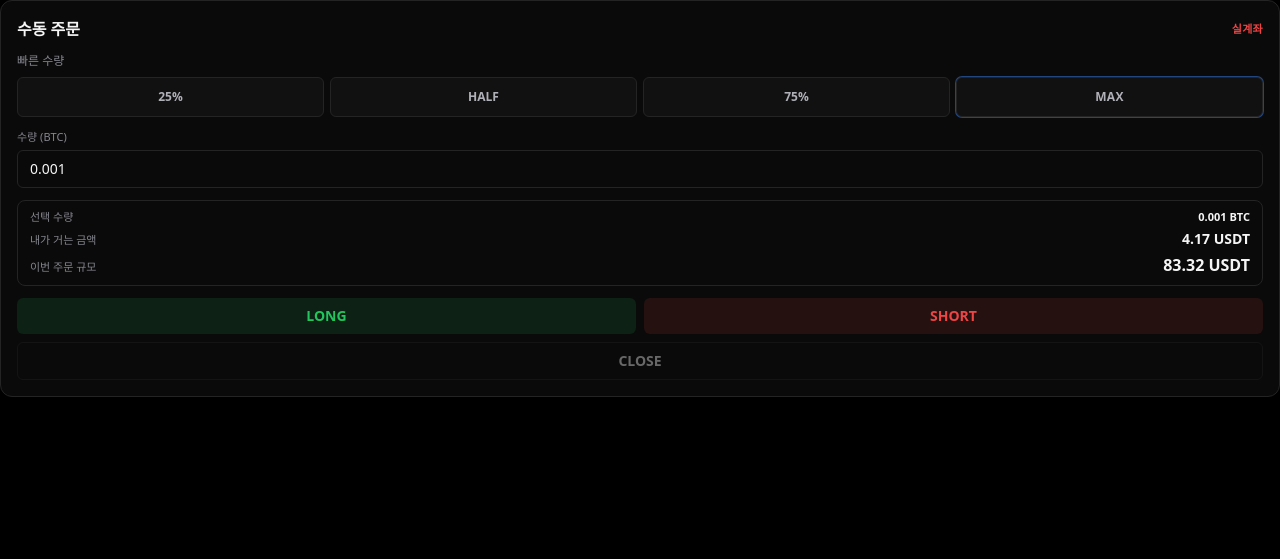
Test: the leverage the confirmation states › says the band's leverage when the band caps the setting (GTC: 20x set, 10x allowed)
The image size is (1280, 559).
Click the button with test id "live-preset-MAX" at (1110, 97), box left=956, top=77, right=1263, bottom=117
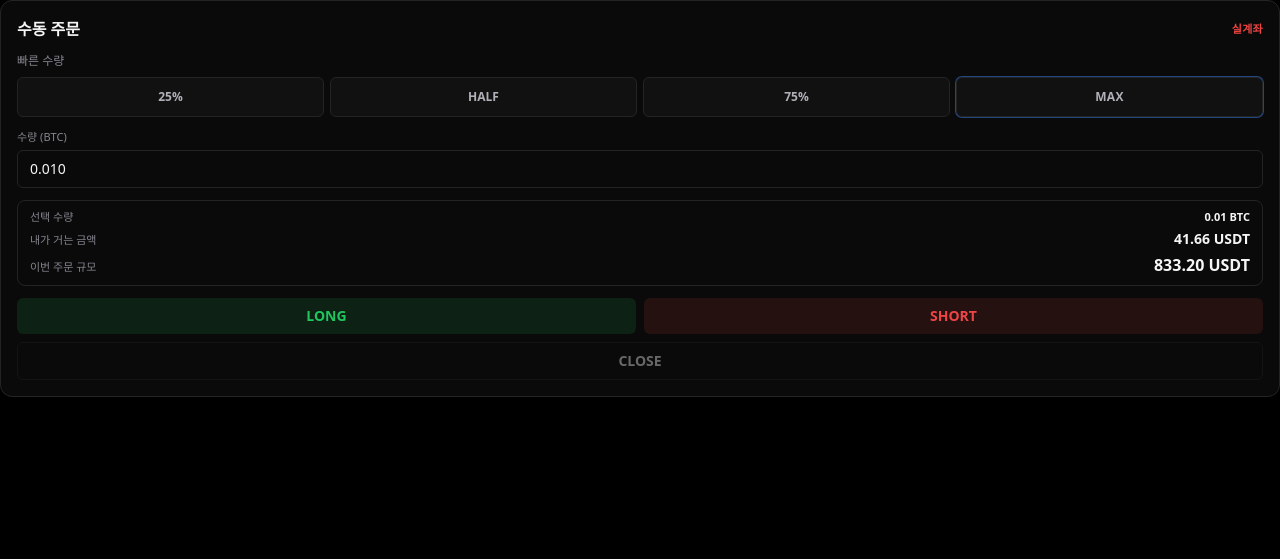
Click the button with test id "live-long" at (326, 316), box left=17, top=298, right=636, bottom=334
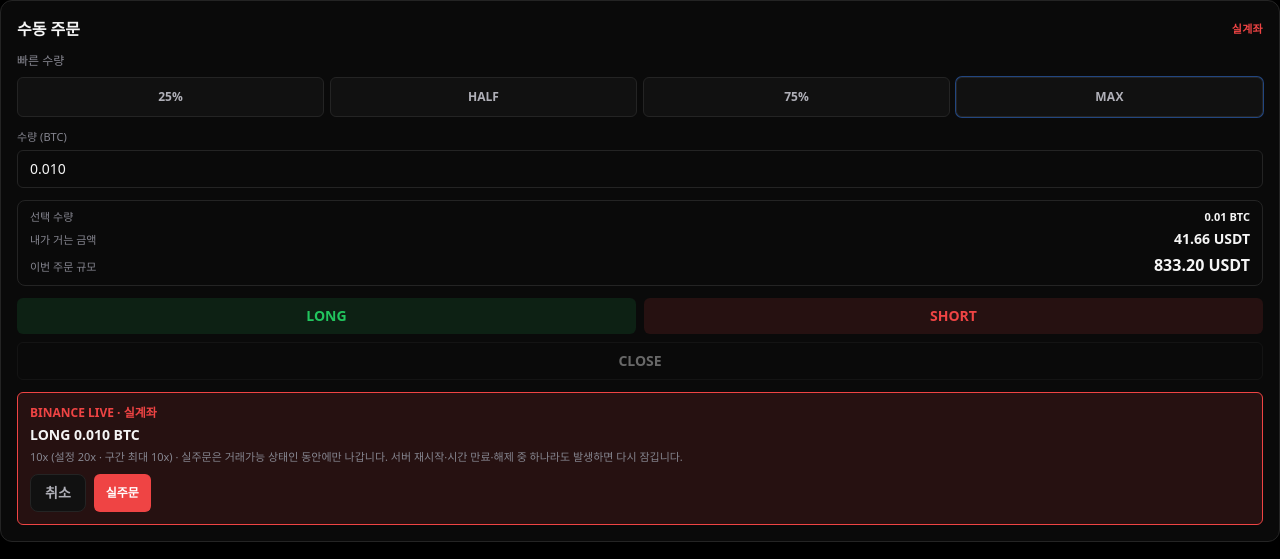
Expected: the text with test id "live-confirm-leverage" reads "10x (설정 20x · 구간 최대 10x) ·", left=30, top=449, right=181, bottom=464
